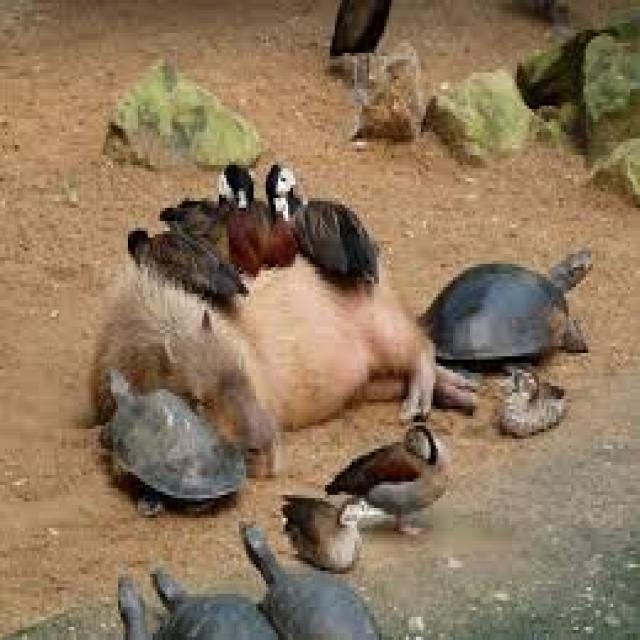capy: (99, 206, 482, 478)
